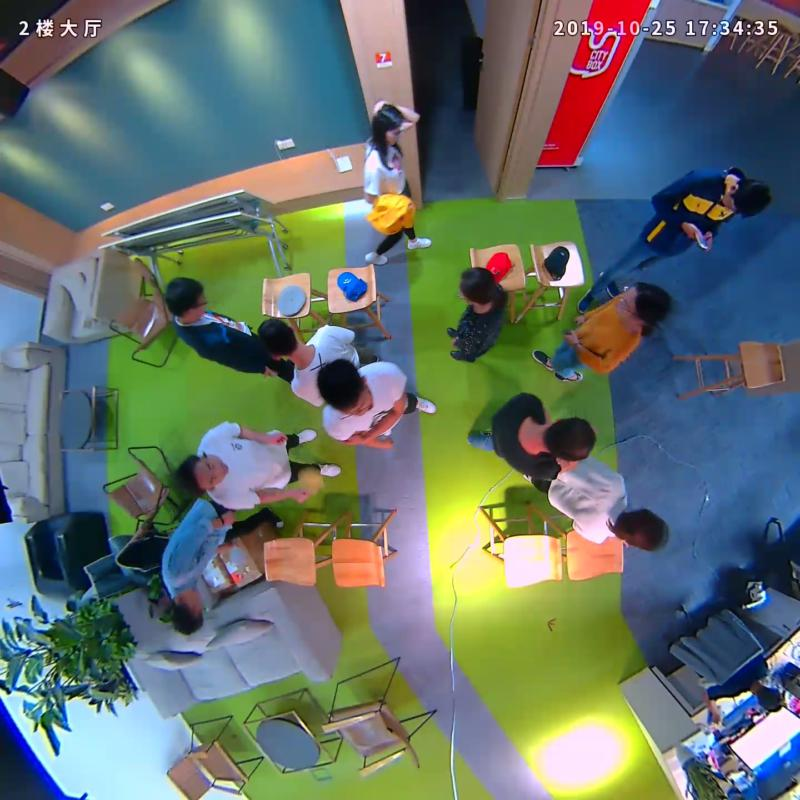head: (316, 358, 372, 416), (541, 416, 595, 462), (617, 281, 672, 325), (617, 507, 666, 553), (721, 178, 771, 219), (177, 453, 228, 491), (257, 317, 299, 359), (456, 266, 499, 306), (165, 277, 206, 317), (171, 589, 204, 636), (372, 103, 404, 147)
